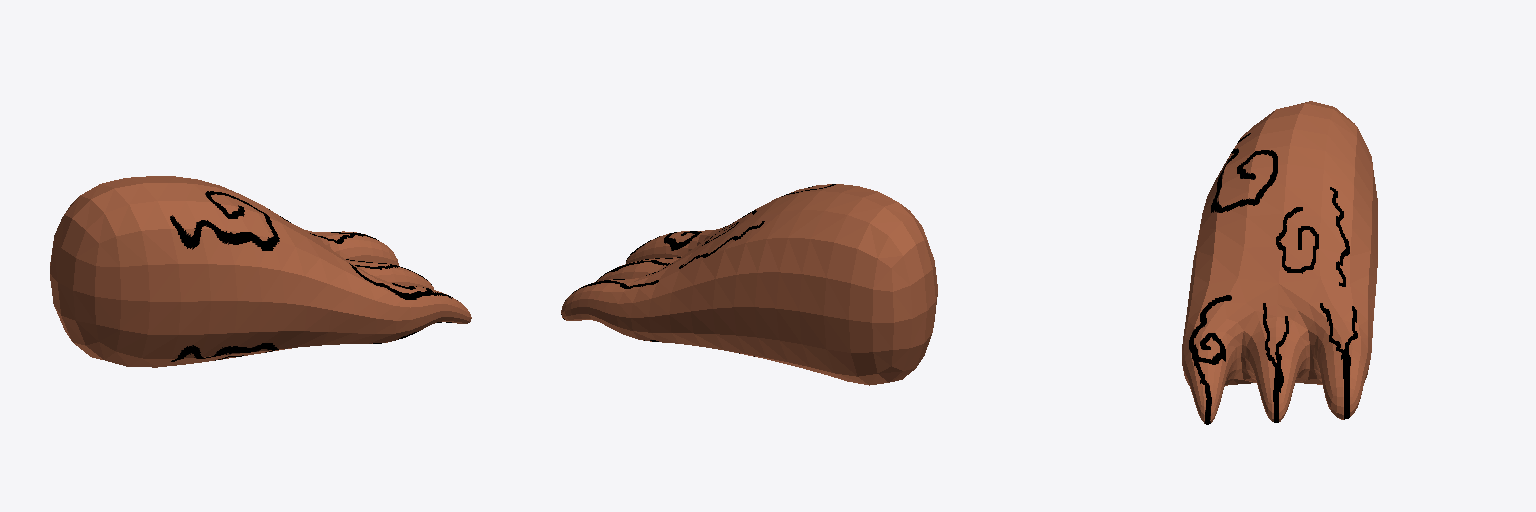
3 views of the same model, side by side, from view 1: azimuth 30°, elevation 25°; view 2: azimuth 150°, elevation 25°; view 3: azimuth 270°, elevation 25° (orthographic).
Parts seen in each view (by area): view 1: Shukaku:Shukaku7; view 2: Shukaku:Shukaku7; view 3: Shukaku:Shukaku7.
Boxes of the visible parts, box(x1,y1,x2,y2) form: Shukaku:Shukaku7: box(50, 176, 471, 367); Shukaku:Shukaku7: box(561, 184, 937, 385); Shukaku:Shukaku7: box(1182, 101, 1377, 424).
Size of the model in its own units: 4.93 by 2.4 by 2.35.
Materials: 1 (1 with a texture image).